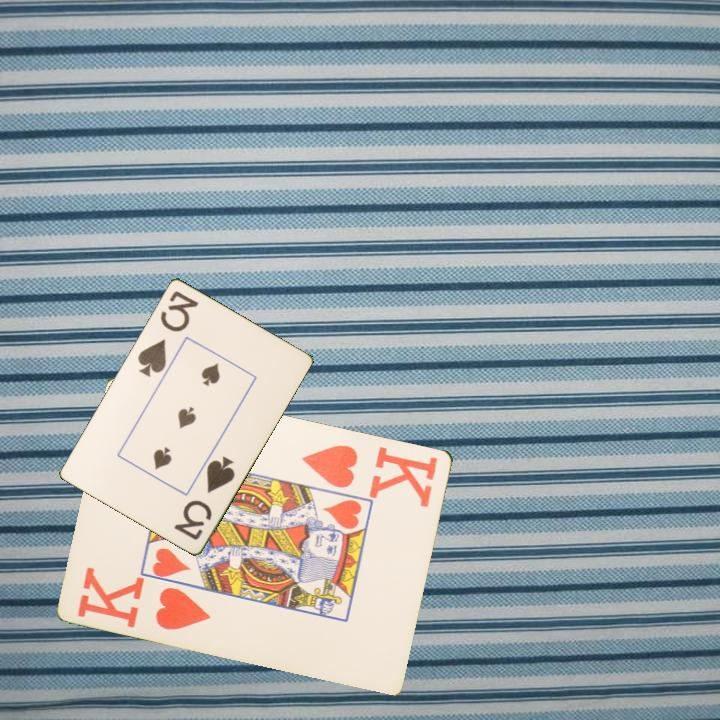3s: (134, 287, 201, 380), (170, 452, 238, 543)
Kh: (299, 441, 441, 510), (74, 564, 214, 633)
